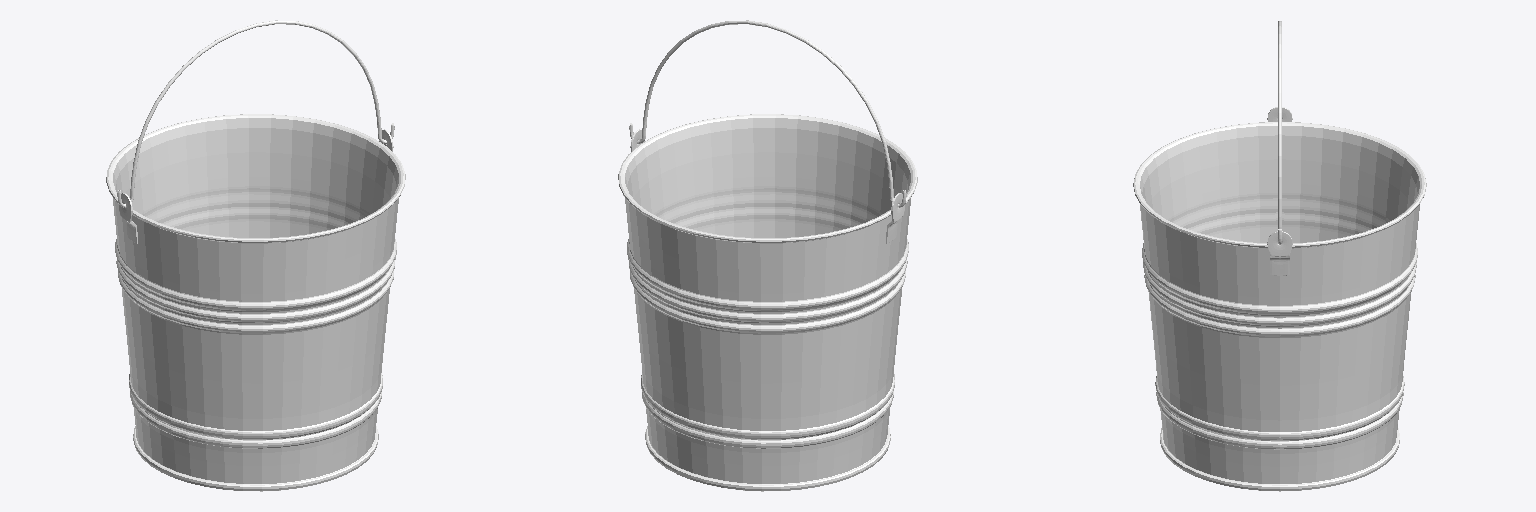
robot.urdf — box.SLDPRT:
<?xml version="1.0" encoding="utf-8"?>
<!-- This URDF was automatically created by SolidWorks to URDF Exporter! Originally created by [author] ([email redacted]) 
     Commit Version: 1.5.1-0-g916b5db  Build Version: 1.5.7152.31018
     For more information, please see http://wiki.ros.org/sw_urdf_exporter -->
<robot
  name="box.SLDPRT">
  <link
    name="box.SLDPRT">
    <inertial>
      <origin
        xyz="1.2996E-17 1.20353843572399E-16 0.16926"
        rpy="0 0 0" />
      <mass
        value="0" />
      <inertia
        ixx="1.73042"
        ixy="-1.2824E-17"
        ixz="-2.8299E-17"
        iyy="1.73042"
        iyz="2.85579897269348E-17"
        izz="1.0053" />
    </inertial>
    <visual>
      <origin
        xyz="0 0 0"
        rpy="1.5707963267949 0 0" />
      <geometry>
        <mesh
          filename="models/meshes/bin/bin.obj" scale="0.002 0.002 0.002"/>
      </geometry>
      <material
        name="">
        <color
          rgba="1 1 1 1" />
      </material>
    </visual>
    <collision>
      <origin
        xyz="0 0 0"
        rpy="1.5707963267949 0 0" />
      <geometry>
        <mesh
          filename="models/meshes/bin/bin.obj" scale="0.002 0.002 0.002"/>
      </geometry>
    </collision>
  </link>
</robot>

--- What the picture shows (computed from the rendered views, not written in the file) ---
3 views of the same robot in one strip: view 1: azimuth 30°, elevation 25°; view 2: azimuth 150°, elevation 25°; view 3: azimuth 270°, elevation 25° (orthographic).
Model box.SLDPRT with 1 links and 0 joints (none), rooted at box.SLDPRT, posed every joint at zero.
Visible links, largest first — view 1: box.SLDPRT; view 2: box.SLDPRT; view 3: box.SLDPRT.
Link boxes in pixels (box(x1,y1,x2,y2)): box.SLDPRT: box(106, 20, 405, 491); box.SLDPRT: box(618, 20, 917, 491); box.SLDPRT: box(1133, 21, 1426, 491).
Size in the robot's own frame: 0.7038 by 0.661 by 1.01 metres.
1 mesh visuals loaded from 1 distinct referenced files (1 OBJ).